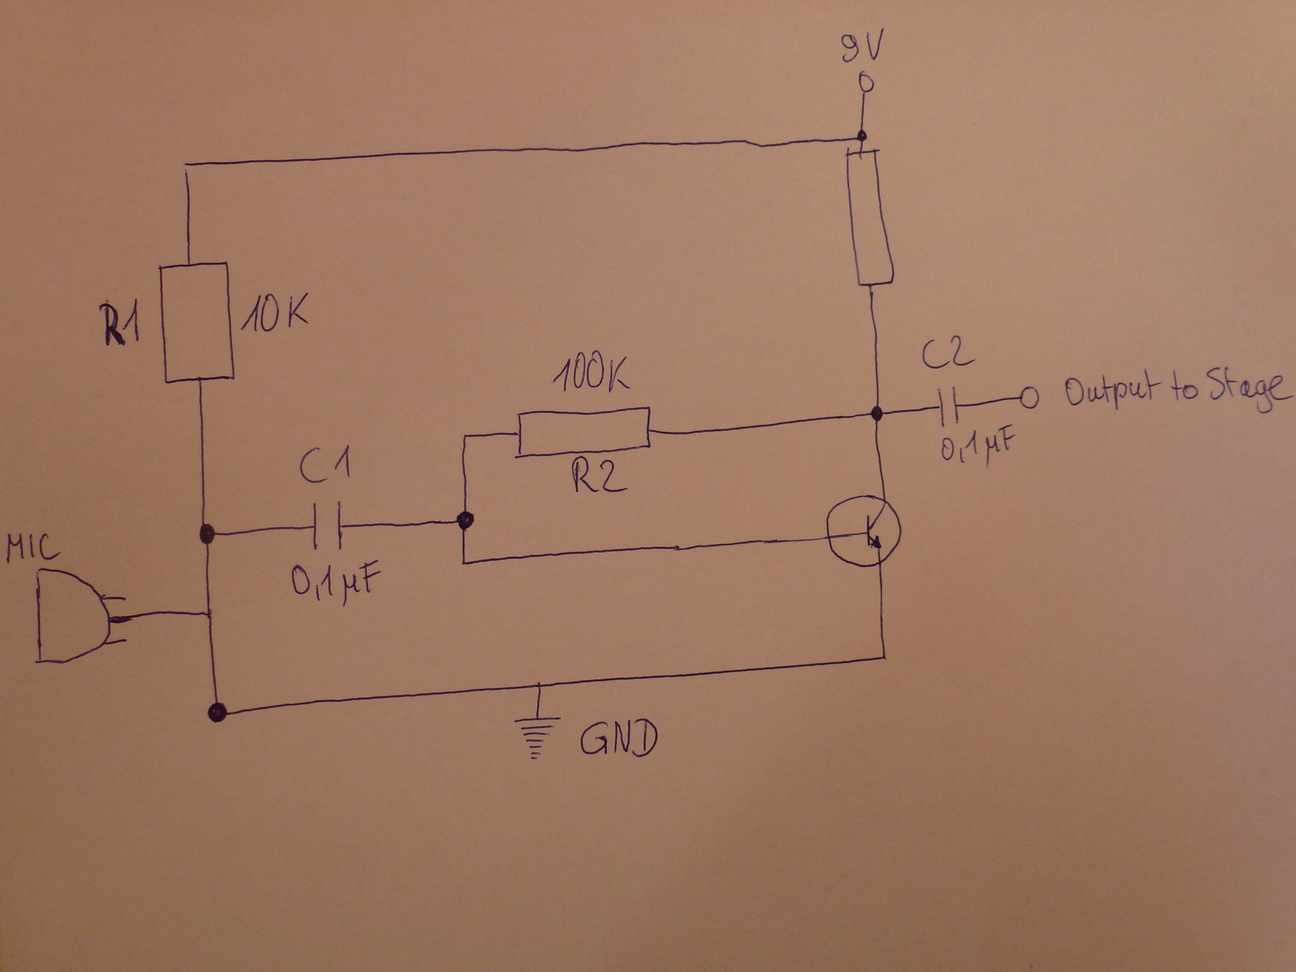capacitor.unpolarized: (299, 496, 352, 558), (930, 384, 969, 430)
gnd: (511, 710, 561, 759)
junction: (202, 696, 234, 726), (197, 521, 219, 548), (453, 506, 476, 534), (865, 401, 886, 424), (198, 602, 216, 625), (873, 648, 891, 665), (854, 127, 870, 144), (458, 427, 473, 444), (178, 158, 194, 174), (532, 679, 546, 692), (458, 556, 471, 570)
microphone: (33, 565, 136, 664)
resistor: (154, 260, 237, 394), (841, 145, 896, 292), (513, 405, 656, 460)
terminal: (1015, 381, 1043, 414), (854, 69, 876, 97)
text: (1052, 364, 1286, 414), (288, 557, 380, 607), (550, 346, 634, 395), (578, 715, 660, 760), (238, 288, 312, 337), (939, 423, 1016, 468), (96, 295, 144, 350), (567, 454, 630, 496), (298, 439, 355, 483), (4, 529, 64, 565), (920, 332, 977, 370), (835, 25, 889, 63)
transistor: (823, 491, 912, 567)
